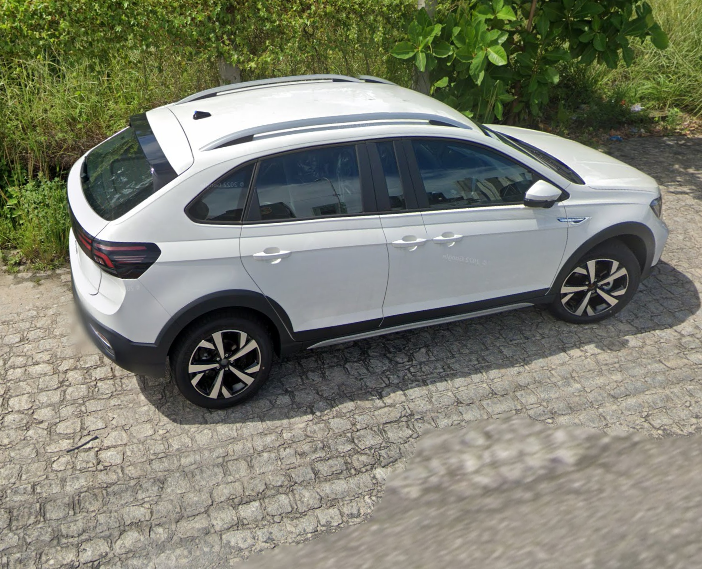car: (60, 69, 672, 414)
